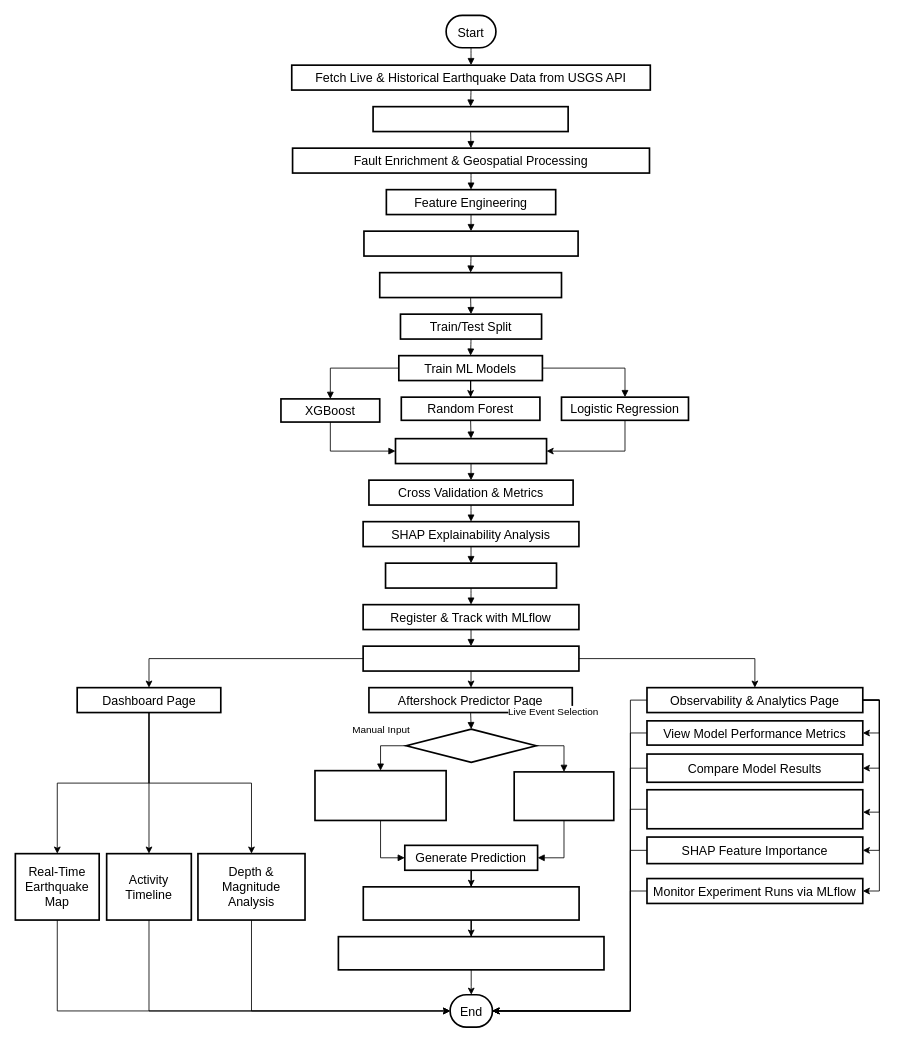
The diagram is 901 pixels wide and 1042 high, and some of its shapes have lost their labels. Each missing label, with the centre of its shape:
"Analyse ROC Curve & Confusion Matrix" goes at point (754, 808).
"Build Final ML Dataset" goes at point (470, 284).
"Calculate Aftershock Probability" goes at point (471, 903).
"Clean & Preprocess Data" goes at point (470, 118).
"Deploy Streamlit Application" goes at point (470, 658).
"Display Risk Level & Recommendations" goes at point (470, 952).
"Enter Earthquake Parameters" goes at point (380, 795).
"Generate Aftershock Labels" goes at point (471, 243).
"Input Type" goes at point (471, 745).
"Model Evaluation" goes at point (470, 450).
"Save Model Artifacts" goes at point (470, 575).
"Select Recent Earthquake" goes at point (563, 796).
